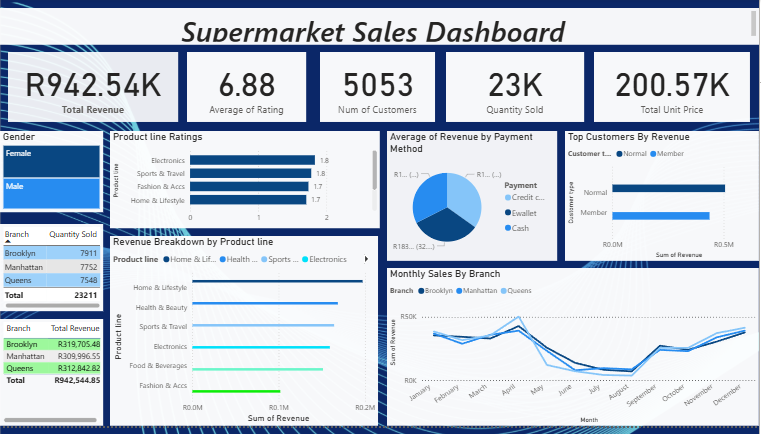

The dashboard page shown, as its layout file describes it:
{"tool":"powerbi","page":{"name":"Page 1","canvas":[1280,720],"ordinal":0},"visuals":[{"type":"card","fields":{"Values":["Sum(in.Quantity)"]},"box":[752.1,89.4,232.7,118.1],"z":0},{"type":"card","fields":{"Values":["Avg(in.Rating)"]},"box":[315.4,89.4,200.7,118.1],"z":1000},{"type":"card","fields":{"Values":["Sum(in.Revenue)"]},"box":[13.5,89.4,286.7,118.1],"z":2000},{"type":"card","fields":{"Values":["Sum(in.Unit price)"]},"box":[1001.7,89.4,263.1,118.1],"z":3000},{"type":"lineChart","title":"Monthly Sales By Branch","fields":{"Y":["Sum(in.Revenue)"],"Category":["in.Date.Variation.Date Hierarchy.Month"],"Series":["in.Branch"]},"box":[652.6,453.6,627.4,266.5],"z":4000},{"type":"clusteredBarChart","title":"Revenue Breakdown by Product line","fields":{"Category":["in.Product line"],"Y":["Sum(in.Revenue)"],"Series":["in.Product line"]},"box":[185.5,399.7,452,320.4],"z":5000},{"type":"treemap","title":" Gender","fields":{"Group":["in.Gender"],"Values":["CountNonNull(in.Gender)"]},"box":[0,222.6,173.7,136.6],"z":6000},{"type":"pieChart","title":"Average of Revenue by Payment Method","fields":{"Category":["in.Payment"],"Y":["Avg(in.Revenue)"]},"box":[652.6,222.6,286.7,219.2],"z":7000},{"type":"clusteredBarChart","title":"Top Customers By Revenue","fields":{"Category":["in.Customer type"],"Y":["Sum(in.Revenue)"],"Series":["in.Customer type"]},"box":[952.8,222.6,327.2,219.2],"z":8000},{"type":"textbox","box":[0,15.2,1280,62.4],"z":9000},{"type":"card","fields":{"Values":["in.MEASURE"]},"box":[539.7,89.4,193.9,118.1],"z":10000},{"type":"clusteredBarChart","title":" Product line Ratings","fields":{"Category":["in.Product line"],"Y":["StandardDeviation(in.Rating)"]},"box":[185.5,222.6,455.3,163.6],"z":11000},{"type":"tableEx","fields":{"Values":["in.Branch","Sum(in.Quantity)"]},"box":[0,379.4,173.7,146.7],"z":12000},{"type":"tableEx","fields":{"Values":["in.Branch","Sum(in.Revenue)"]},"box":[0,539.7,173.7,180.4],"z":13000}]}

Visuals, with their boxes in screenshot pixels (x1, y1, x2, y2), scaled from the page's 1280x720 canvas onto the 761x434 screenshot:
card - Sum(in.Quantity): BBox(447, 54, 585, 125)
card - Avg(in.Rating): BBox(188, 54, 307, 125)
card - Sum(in.Revenue): BBox(8, 54, 178, 125)
card - Sum(in.Unit price): BBox(596, 54, 752, 125)
"Monthly Sales By Branch" lineChart: BBox(388, 273, 760, 433)
"Revenue Breakdown by Product line" clusteredBarChart: BBox(110, 241, 379, 433)
" Gender" treemap: BBox(0, 134, 103, 217)
"Average of Revenue by Payment Method" pieChart: BBox(388, 134, 558, 266)
"Top Customers By Revenue" clusteredBarChart: BBox(566, 134, 760, 266)
textbox: BBox(0, 9, 760, 47)
card - in.MEASURE: BBox(321, 54, 436, 125)
" Product line Ratings" clusteredBarChart: BBox(110, 134, 381, 233)
tableEx - in.Branch x Sum(in.Quantity): BBox(0, 229, 103, 317)
tableEx - in.Branch x Sum(in.Revenue): BBox(0, 325, 103, 433)
